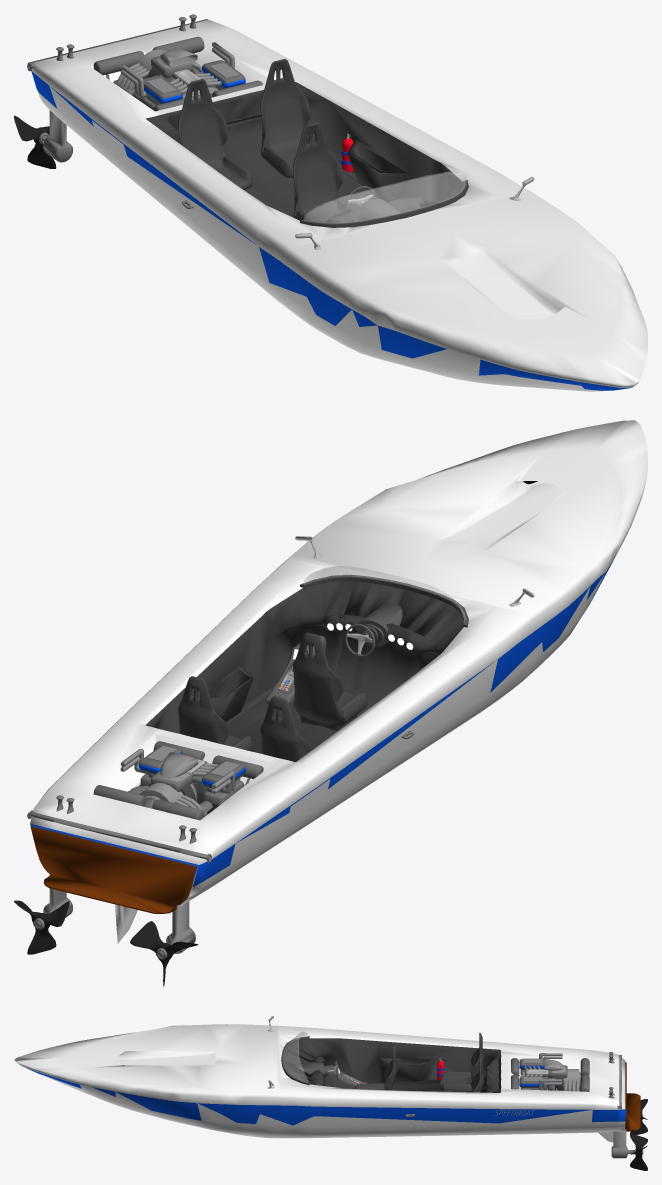
Rendered from skiff_cc.glb.
3 views of the same model, one above another, from view 1: azimuth 30°, elevation 25°; view 2: azimuth 150°, elevation 25°; view 3: azimuth 270°, elevation 25° (orthographic). The views are drawn at different scales.
Parts seen in each view (by area): view 1: dock; view 2: dock; view 3: dock.
Boxes of the visible parts, left/top/right/bottom form: dock: left=14, top=14, right=647, bottom=391; dock: left=14, top=420, right=647, bottom=986; dock: left=14, top=1016, right=647, bottom=1170.
Size of the model in its own units: 1.67 by 1.15 by 6.25.
43 materials, 1 textured.
